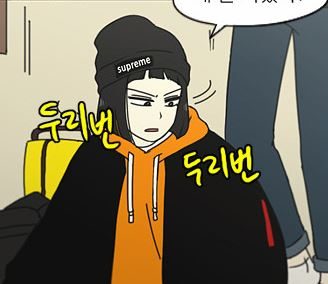hat: (90, 13, 195, 84)
